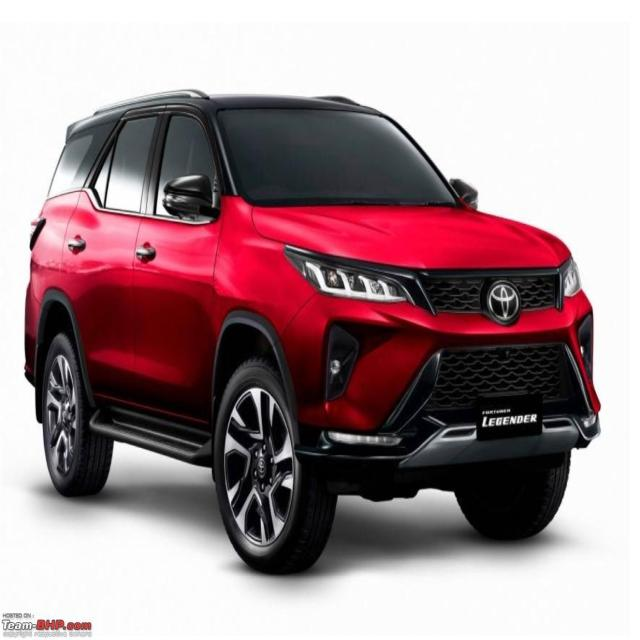light_vehicle: (22, 90, 602, 575)
